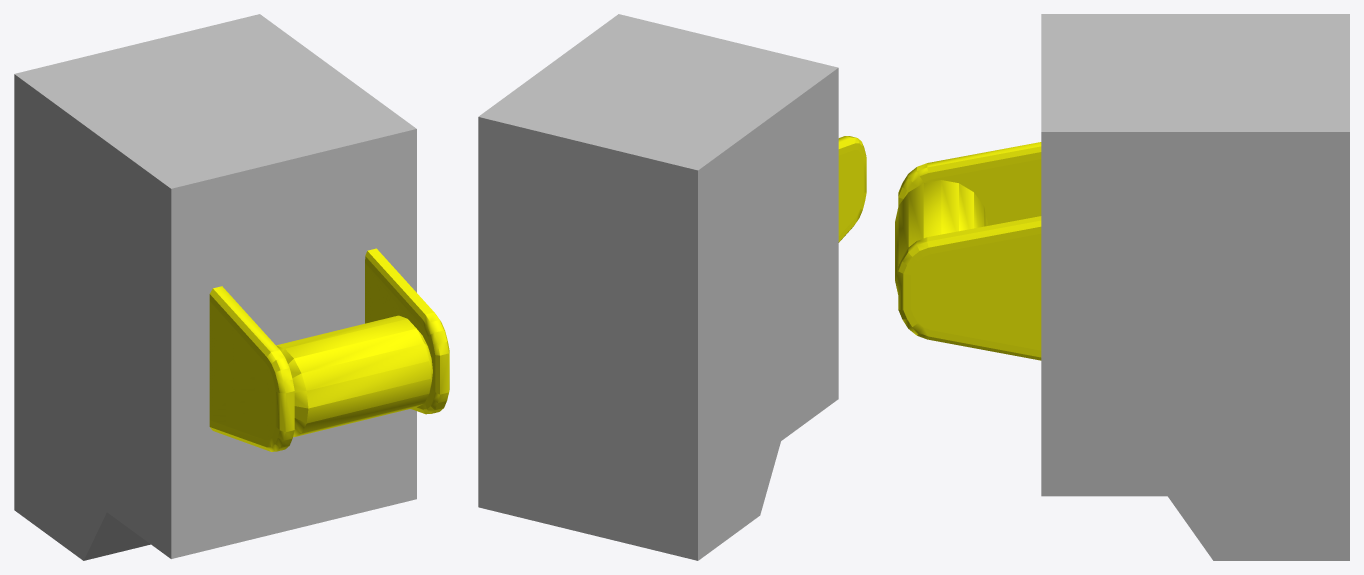
The model's file is sm_hana_pgs_parking_camera.glb.
The picture shows the model from 3 angles, left to right: view 1: azimuth 30°, elevation 25°; view 2: azimuth 150°, elevation 25°; view 3: azimuth 270°, elevation 25°; orthographic projection. The views are drawn at different scales.
Parts seen in each view (by area): view 1: sm_color_common, sm_hana_pgs_parking_camera; view 2: sm_color_common, sm_hana_pgs_parking_camera; view 3: sm_color_common, sm_hana_pgs_parking_camera.
Part boxes in pixels (bbox=[...]): sm_color_common: bbox=[14, 14, 416, 560]; sm_hana_pgs_parking_camera: bbox=[209, 248, 449, 451]; sm_color_common: bbox=[478, 14, 838, 560]; sm_hana_pgs_parking_camera: bbox=[838, 136, 866, 242]; sm_color_common: bbox=[1041, 14, 1349, 560]; sm_hana_pgs_parking_camera: bbox=[895, 142, 1041, 360].
Bounding box in the file's own units: 0.3768 × 0.6393 × 0.6143.
2 materials, 1 textured.
